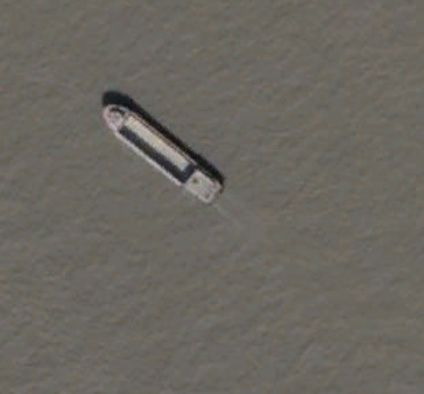boat: (100, 100, 226, 208)
